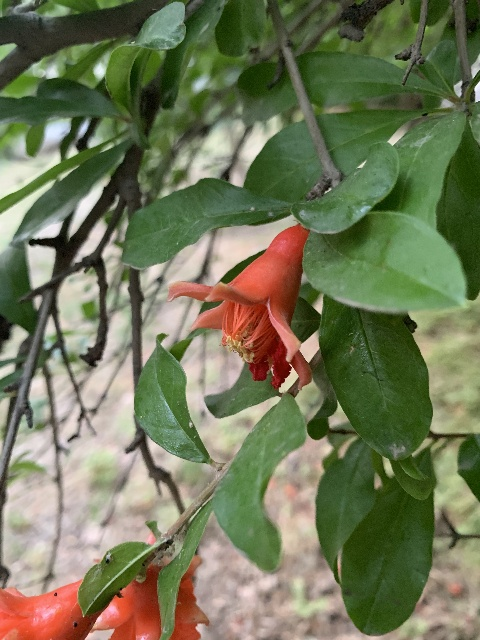flower: (167, 223, 314, 390), (92, 531, 208, 639), (0, 577, 106, 640)
